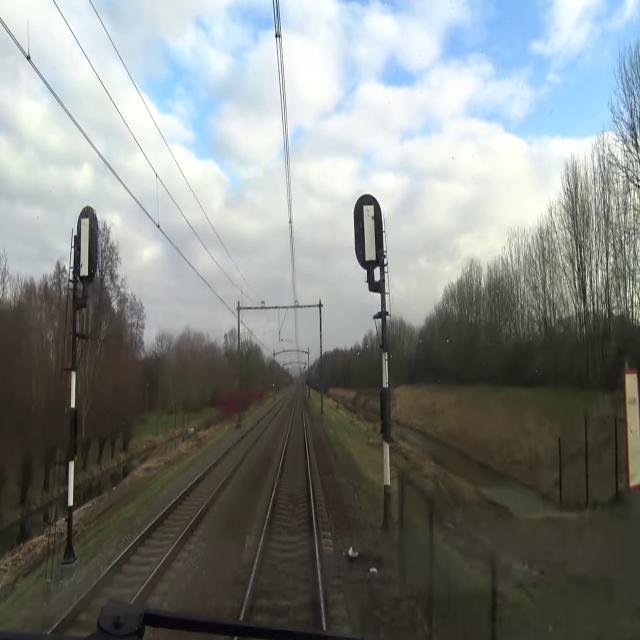rail-track: (49, 410, 274, 639), (244, 392, 321, 629)
